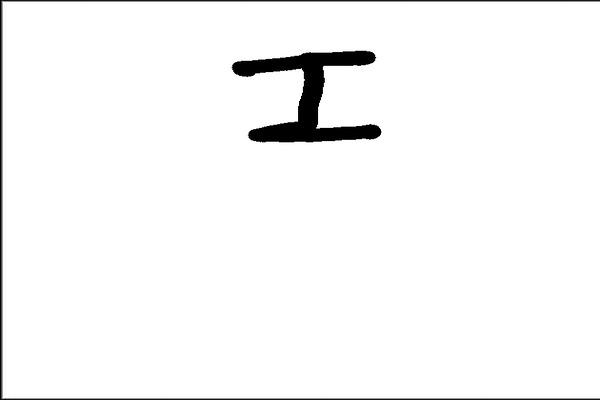i: (218, 44, 394, 150)
